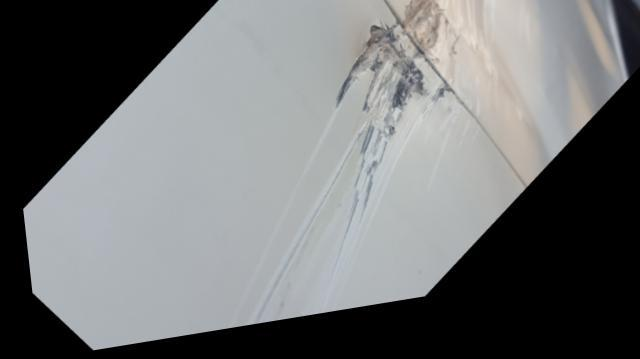dent: (422, 0, 581, 180)
scratch: (212, 29, 474, 336), (394, 0, 499, 141)
